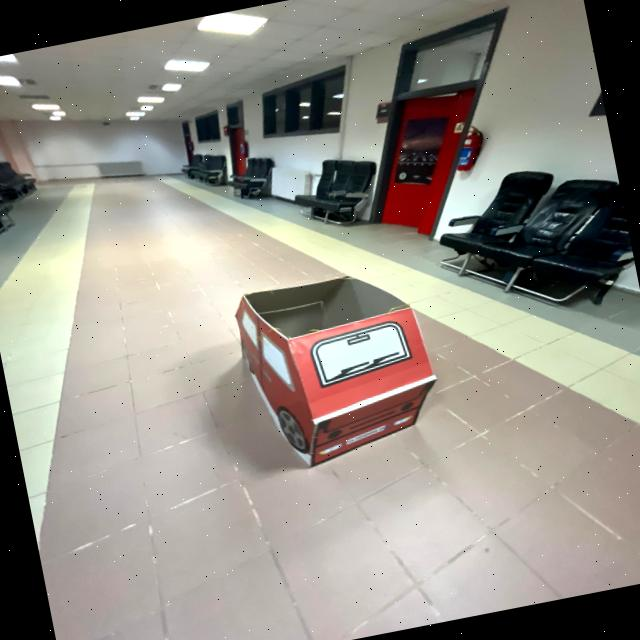red_car: (194, 250, 470, 507)
